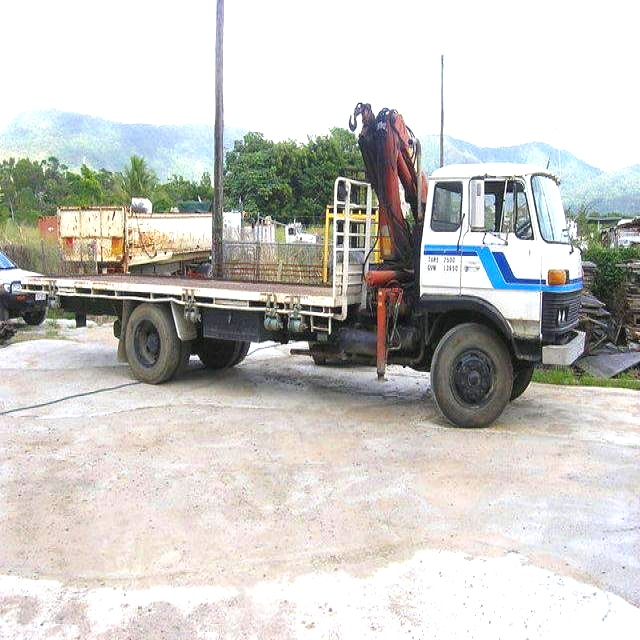truck: (22, 97, 610, 432)
